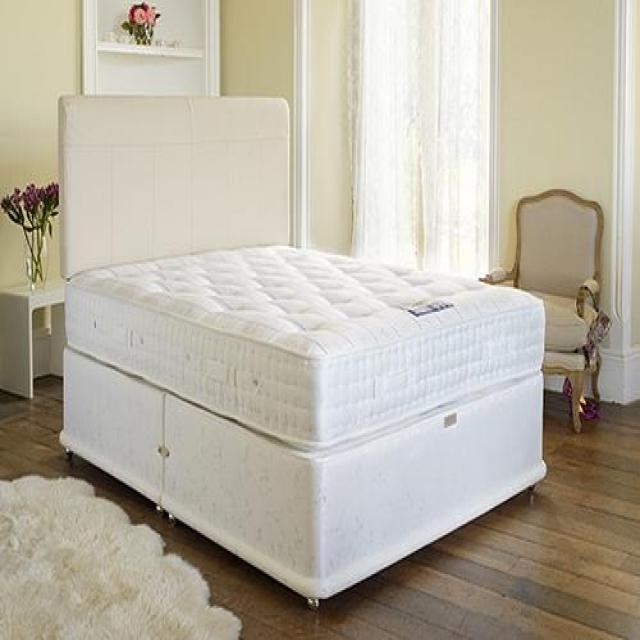bed: (56, 92, 548, 610)
chair: (478, 187, 606, 433)
table: (0, 276, 65, 399)
